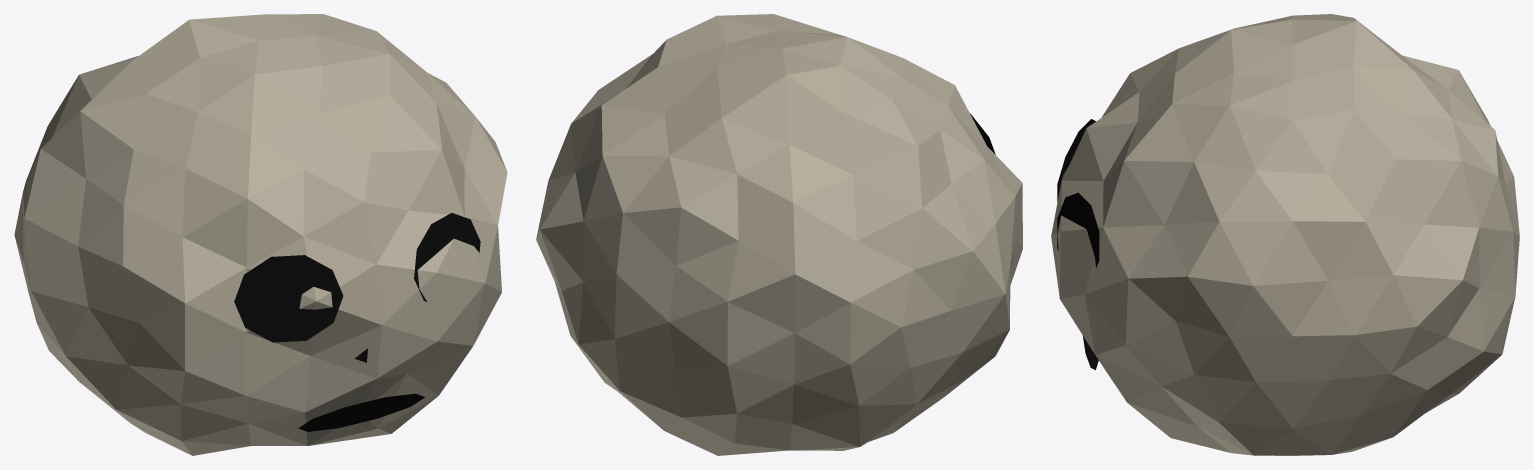
File: DL_Rock_SkullRock.obj
3 views of the same model, side by side, from view 1: azimuth 30°, elevation 25°; view 2: azimuth 150°, elevation 25°; view 3: azimuth 270°, elevation 25° (orthographic). The views are drawn at different scales.
Parts seen in each view (by area): view 1: skull, eye_0, jaw_shadow, eye_1; view 2: skull; view 3: skull, eye_1, eye_0.
Boxes of the visible parts, box(x1,y1,x2,y2) form: skull: box(14, 14, 507, 455); eye_0: box(234, 255, 343, 342); jaw_shadow: box(298, 393, 424, 431); eye_1: box(414, 213, 480, 301); skull: box(536, 14, 1022, 455); skull: box(1051, 14, 1519, 455); eye_1: box(1057, 192, 1099, 268); eye_0: box(1057, 119, 1095, 201).
Size of the model in its own units: 6.99 by 5.62 by 6.48.
